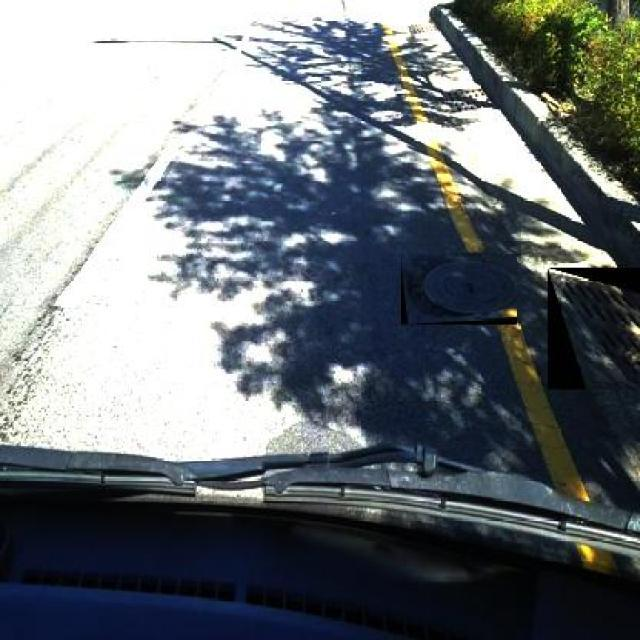Manhole: (547, 267, 640, 389), (400, 253, 518, 324)
Pothole: (4, 283, 64, 442)
